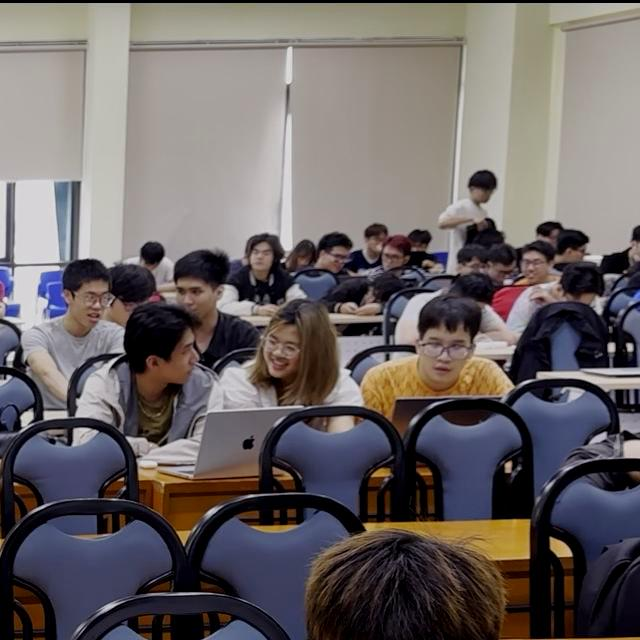Looking away: (417, 325, 478, 383), (261, 318, 301, 377), (157, 330, 199, 386), (73, 282, 111, 330), (175, 278, 211, 322)
